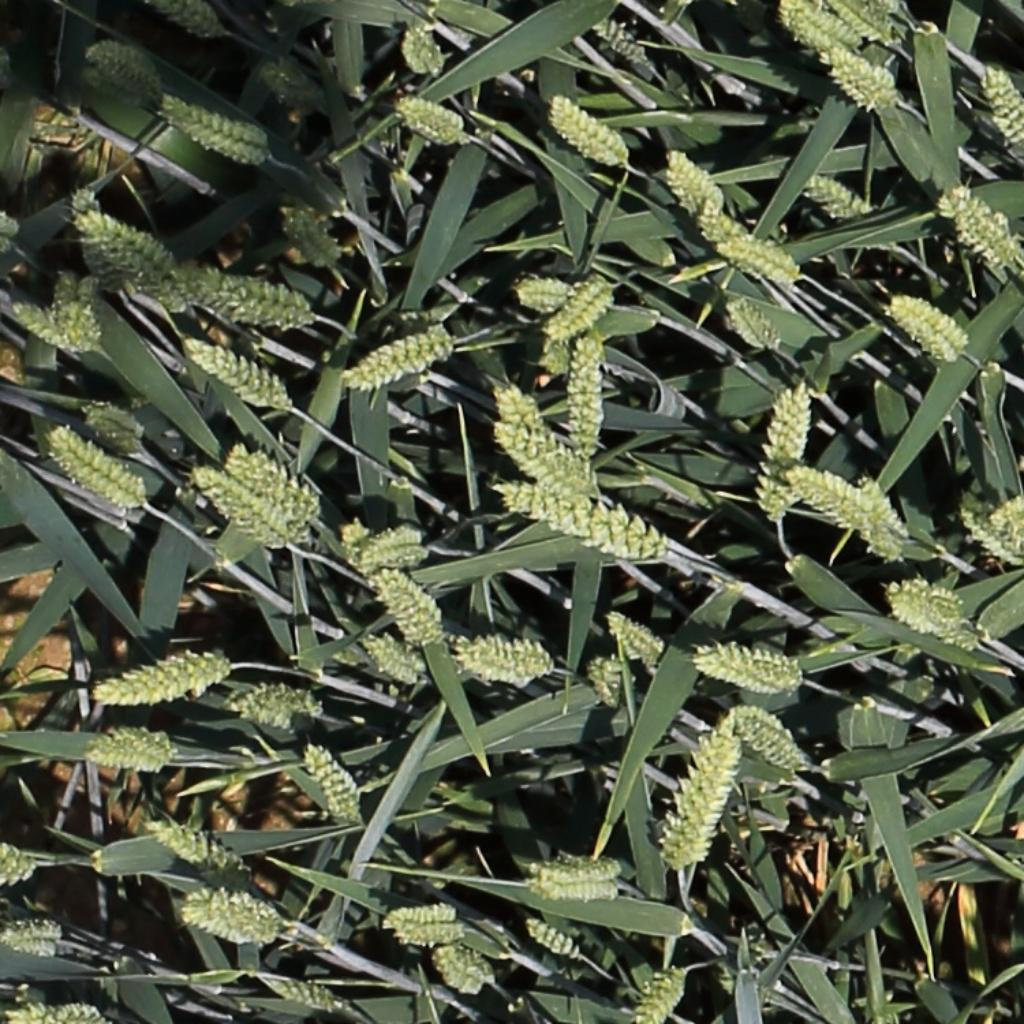0-0: (649, 704, 743, 880), (490, 480, 672, 569), (70, 205, 200, 314), (346, 517, 447, 644), (84, 633, 234, 715), (781, 467, 910, 557), (186, 462, 297, 551), (487, 419, 606, 500), (182, 338, 300, 413), (46, 426, 149, 510), (227, 436, 323, 526), (158, 96, 274, 170), (175, 272, 316, 330), (344, 323, 459, 394), (698, 212, 807, 285), (757, 378, 810, 527), (936, 181, 1024, 266), (883, 579, 985, 652), (689, 636, 810, 696), (72, 190, 133, 300), (181, 884, 289, 946), (145, 815, 253, 876), (547, 94, 633, 170), (216, 679, 326, 736), (541, 271, 620, 348), (297, 741, 361, 831), (731, 703, 812, 774), (891, 294, 971, 364), (452, 632, 557, 685), (75, 38, 171, 95), (254, 47, 331, 118), (565, 334, 607, 463), (10, 301, 107, 356), (80, 721, 176, 774), (834, 40, 902, 111), (857, 475, 912, 561), (384, 17, 453, 85), (388, 95, 476, 148), (962, 494, 1023, 570), (280, 201, 344, 272), (660, 144, 724, 214), (348, 524, 433, 572), (725, 297, 785, 358), (981, 64, 1024, 148), (82, 397, 145, 454), (783, 1, 856, 49), (376, 892, 461, 933), (632, 962, 687, 1024), (603, 611, 664, 666), (429, 944, 492, 997), (1, 916, 72, 963), (802, 174, 873, 219), (365, 635, 431, 683), (589, 16, 648, 68), (390, 912, 477, 944), (520, 918, 582, 961), (530, 852, 623, 879), (830, 1, 891, 42), (531, 879, 624, 905), (4, 1001, 106, 1024), (152, 1, 218, 36), (985, 493, 1023, 553), (489, 375, 542, 418), (585, 653, 625, 709), (512, 277, 577, 310), (279, 981, 346, 1013), (0, 841, 41, 886), (56, 270, 102, 299), (0, 208, 23, 248), (539, 341, 566, 375)
